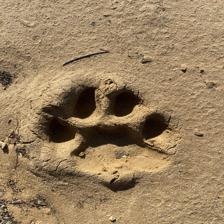beaver: (117, 67, 172, 150)
